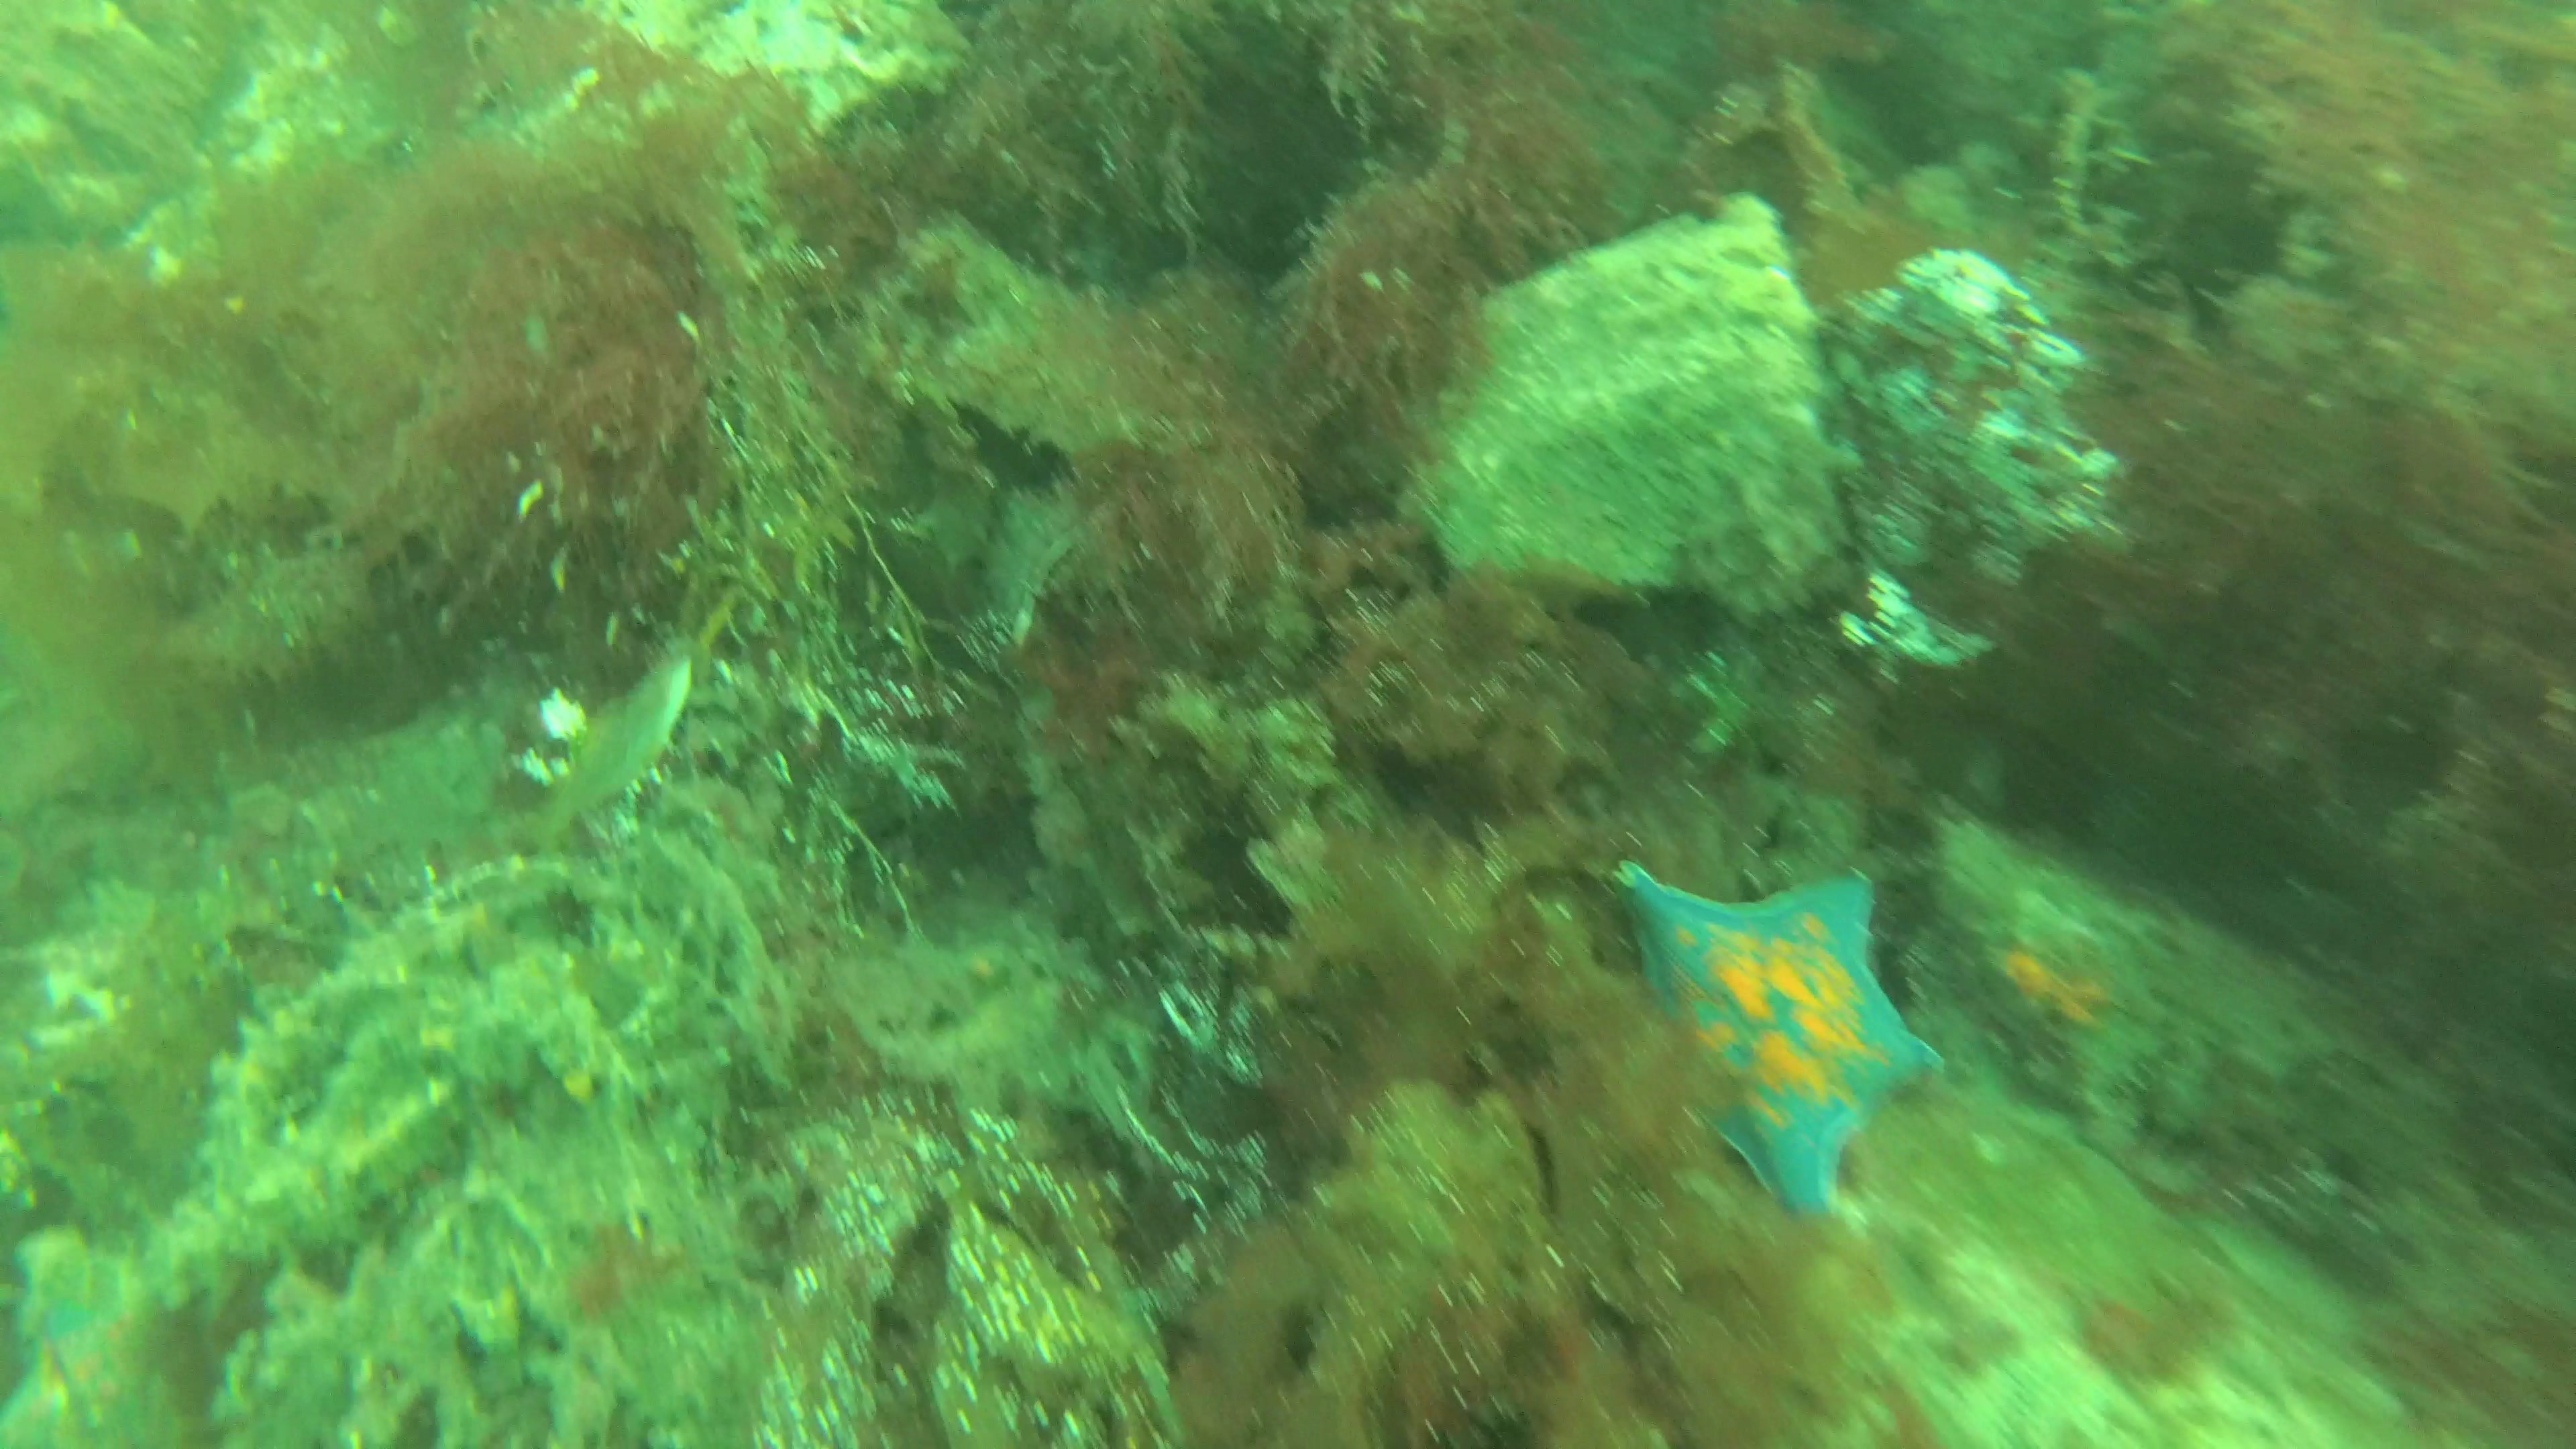starfish: (1614, 858, 1946, 1230)
